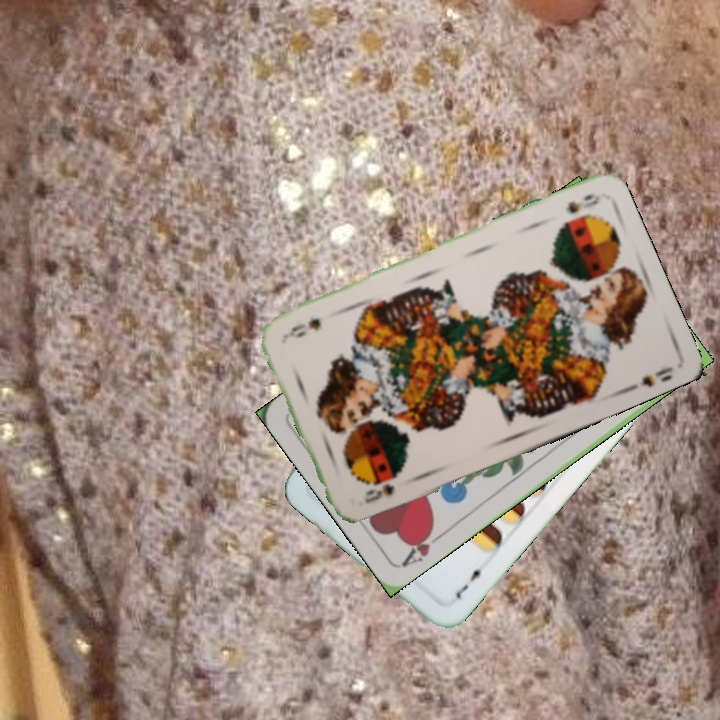E7: (451, 561, 489, 602)
HA: (398, 522, 448, 570)
SO: (360, 472, 400, 506), (561, 189, 603, 217)
